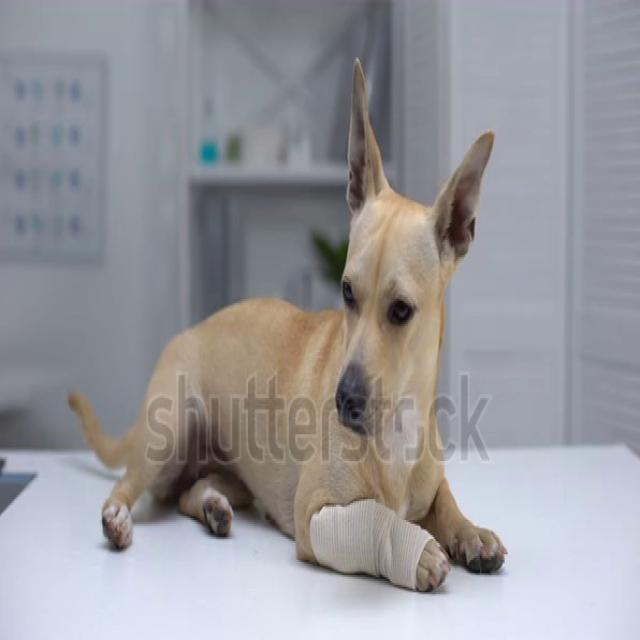injured-animals: (66, 53, 510, 598)
